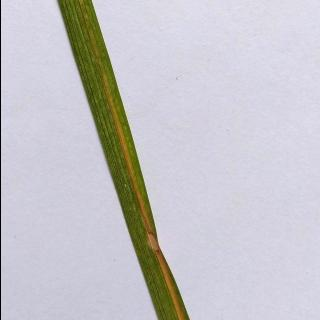Blast: (144, 227, 161, 256)
